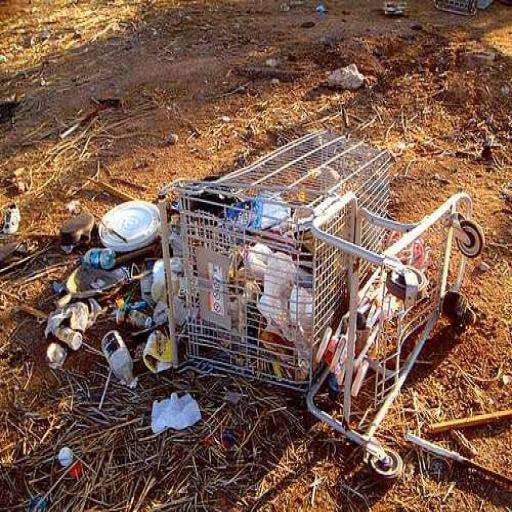shopping_cart: (156, 126, 482, 480)
